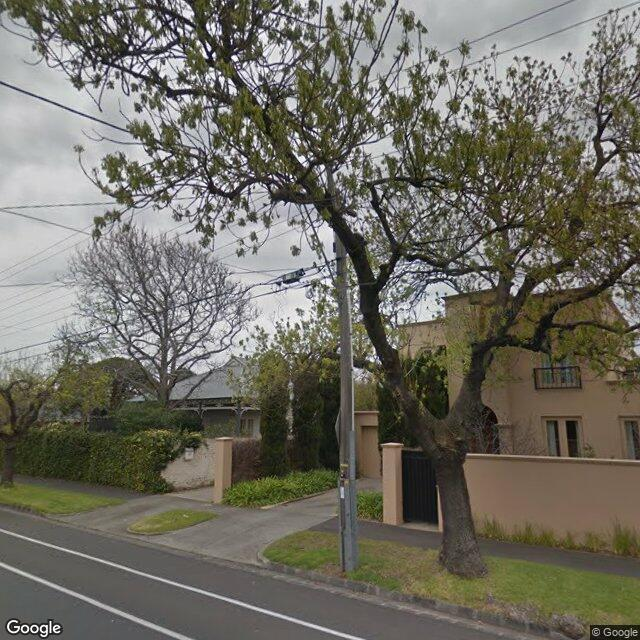timber-pole: (334, 229, 357, 573)
